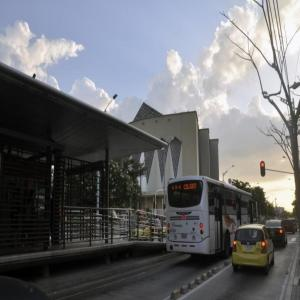Vehicle-registration-plate: (246, 246, 254, 252)
